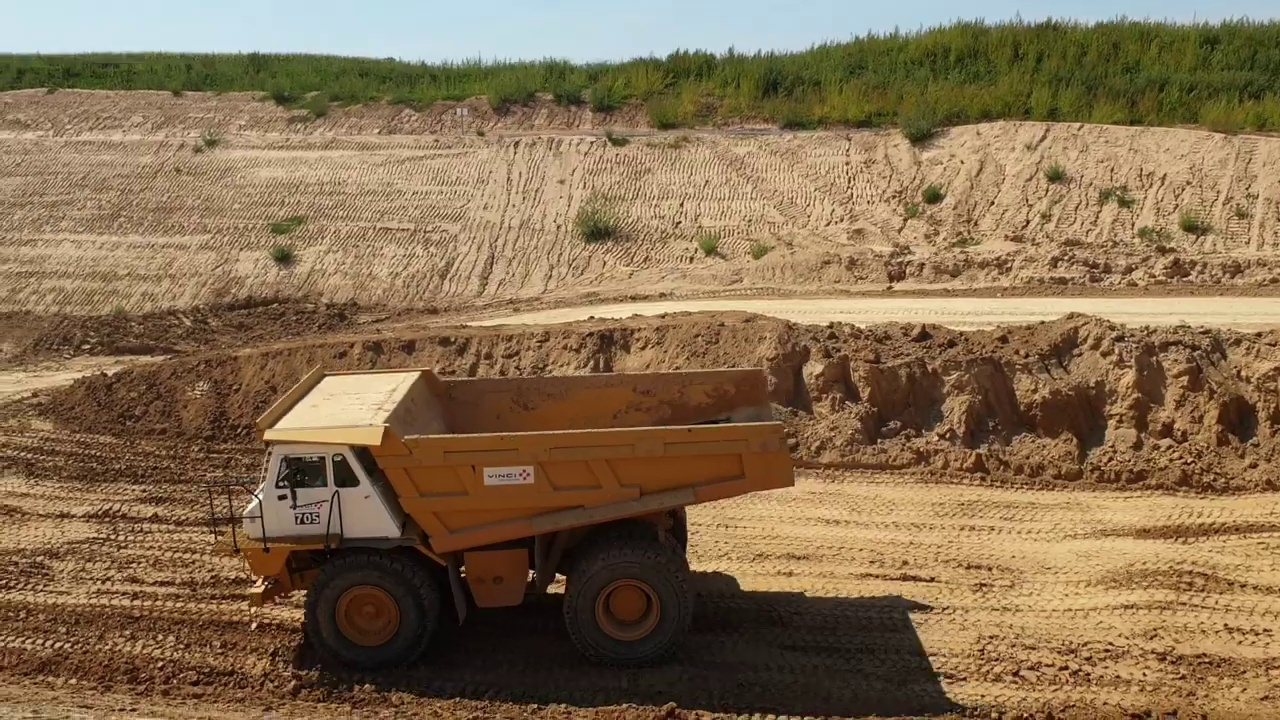truck: (206, 364, 802, 679)
